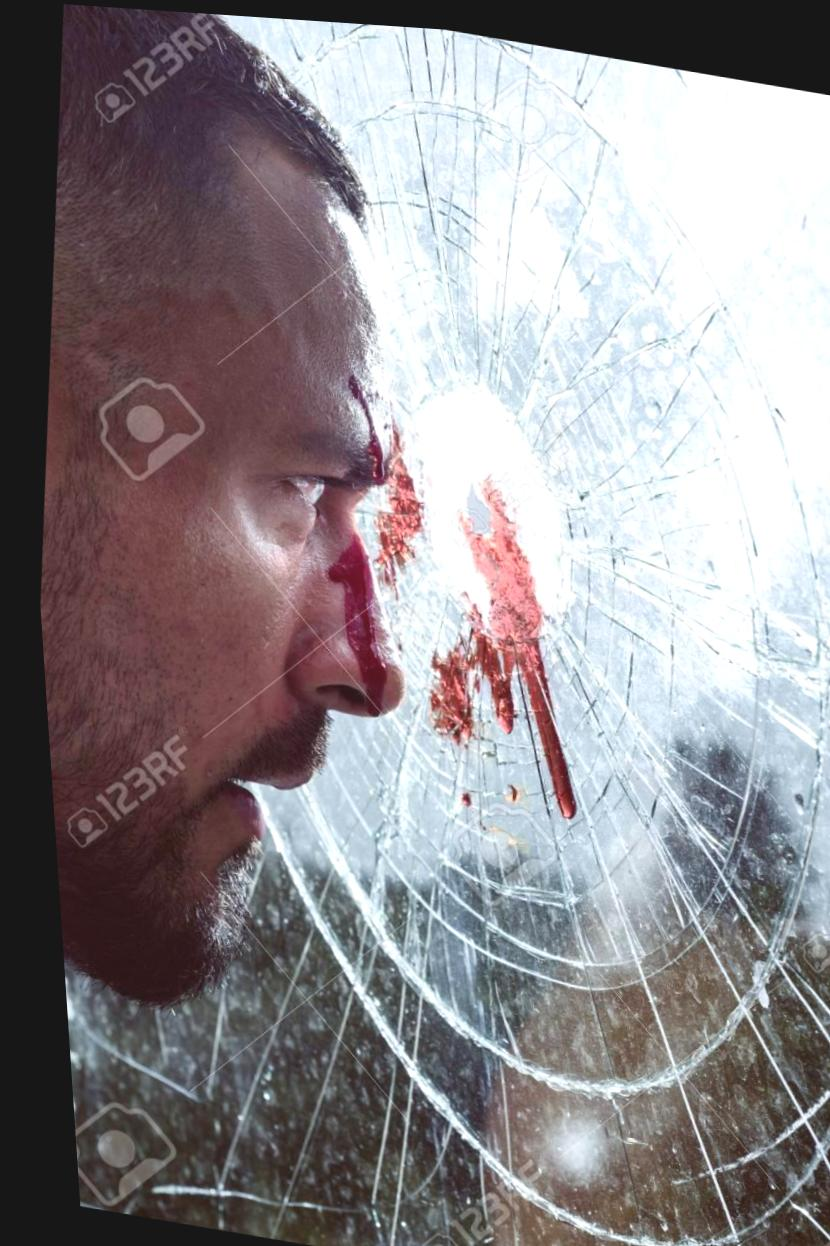Fire: (419, 470, 566, 811), (320, 529, 378, 710), (369, 412, 416, 557)
